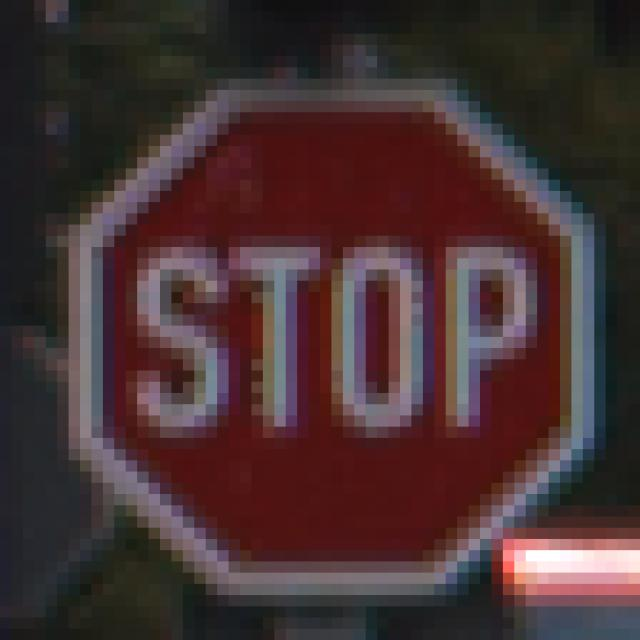STOP: (58, 68, 584, 585)
